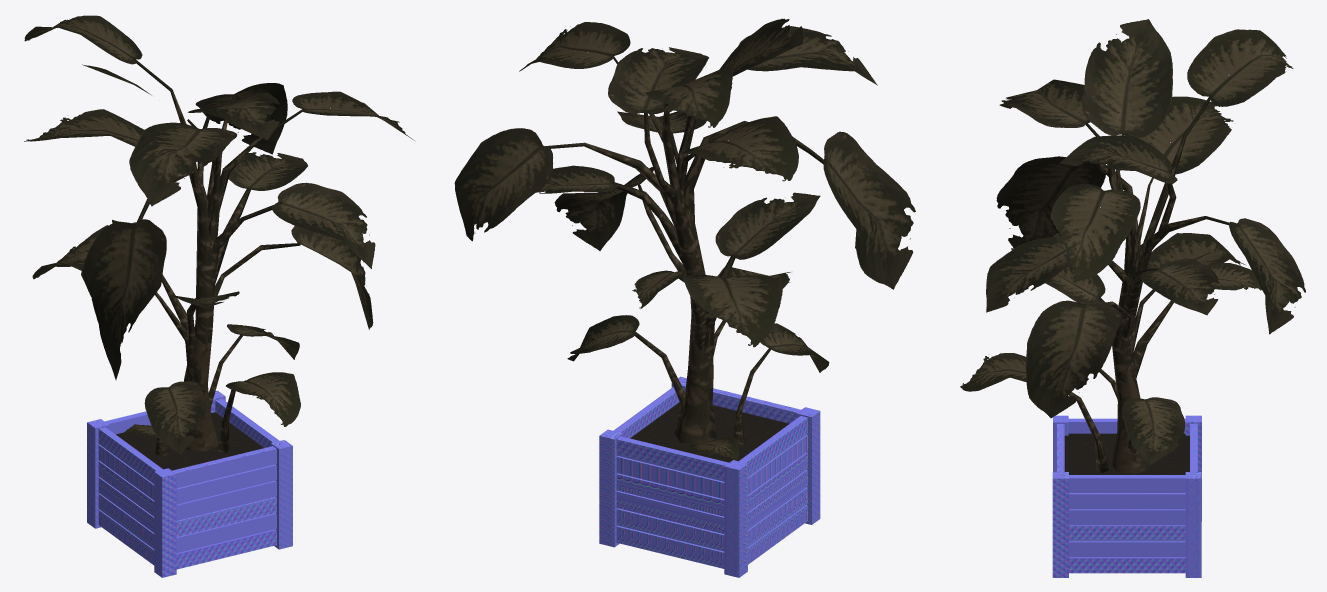
Rendered from SM_PlantD.fbx.
3 renders of one model, left to right at view 1: azimuth 30°, elevation 25°; view 2: azimuth 150°, elevation 25°; view 3: azimuth 270°, elevation 25°, orthographic. The views are drawn at different scales.
Visible parts, largest first — view 1: SM_PlantD; view 2: SM_PlantD; view 3: SM_PlantD.
Boxes of the visible parts, x1,y1,x2,y2 form: SM_PlantD: [24, 15, 414, 577]; SM_PlantD: [454, 18, 915, 577]; SM_PlantD: [960, 19, 1305, 577].
Bounding box in the file's own units: 86.81 × 120 × 80.71.
Materials: 2 (2 with a texture image).
